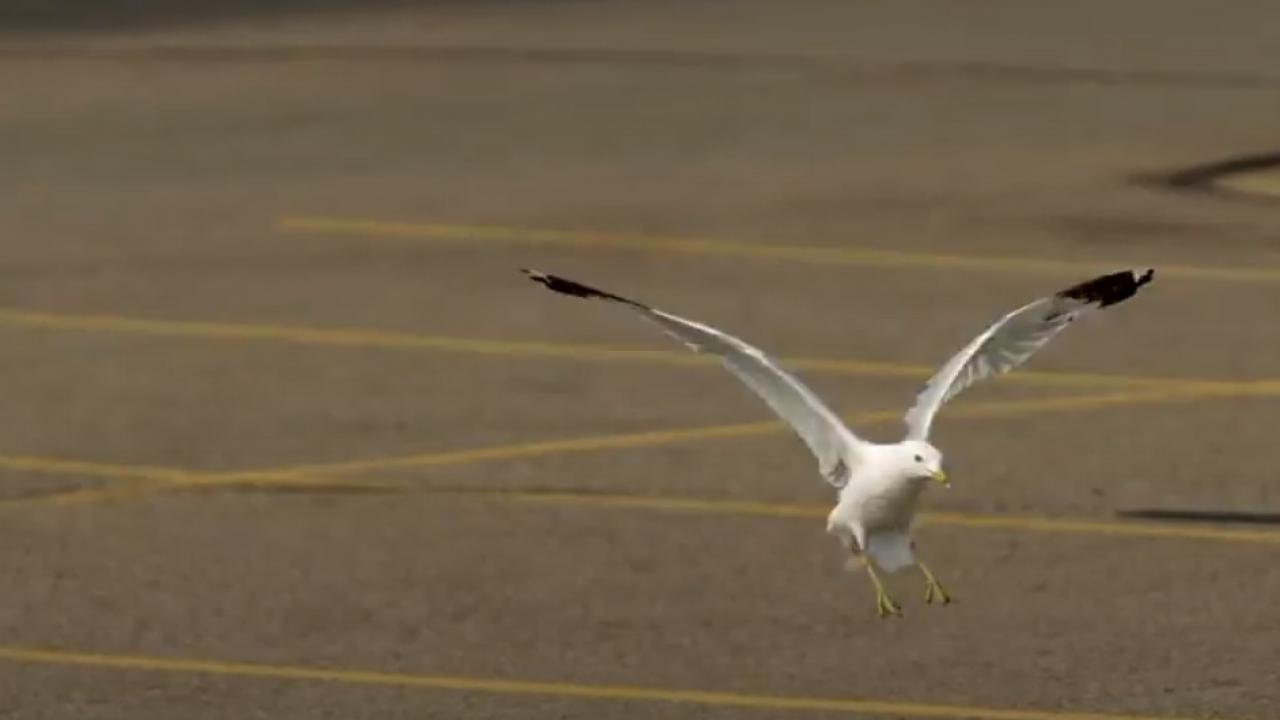Bird: (515, 256, 1169, 630)
